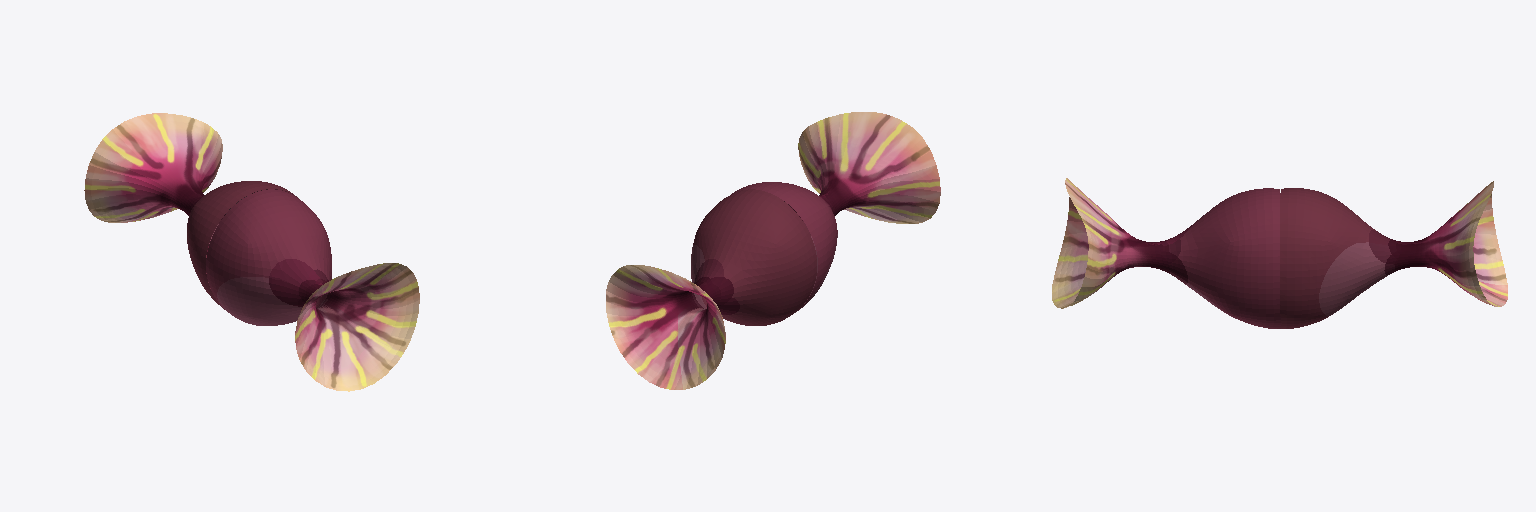
3 views of the same model, side by side, from view 1: azimuth 30°, elevation 25°; view 2: azimuth 150°, elevation 25°; view 3: azimuth 270°, elevation 25° (orthographic).
Parts seen in each view (by area): view 1: Roundcube; view 2: Roundcube; view 3: Roundcube.
Part boxes in pixels (left/top/right/bottom): Roundcube: left=84, top=113, right=419, bottom=391; Roundcube: left=606, top=112, right=940, bottom=389; Roundcube: left=1052, top=178, right=1507, bottom=328.
Bounding box in the file's own units: 1.56 × 1.48 × 4.63.
Materials: 1 (1 with a texture image).